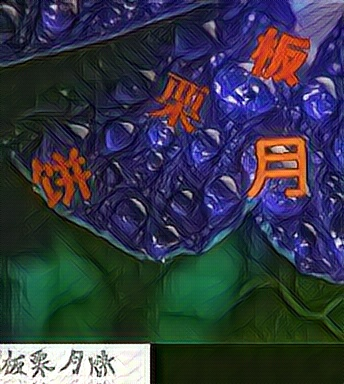B0E5: (249, 20, 312, 86)
B1FD: (29, 140, 92, 206)
C0F5: (146, 69, 209, 135)
D4C2: (246, 134, 309, 200)
